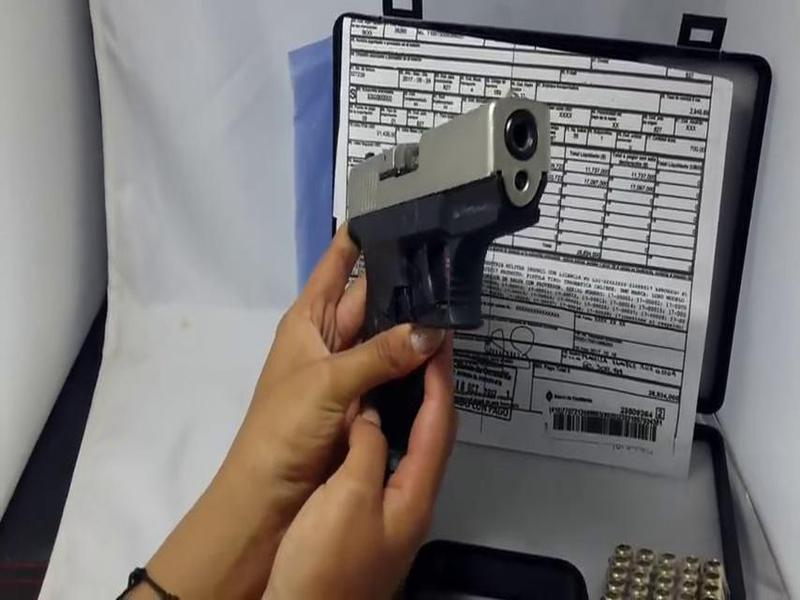Pistola: (326, 98, 567, 458)
